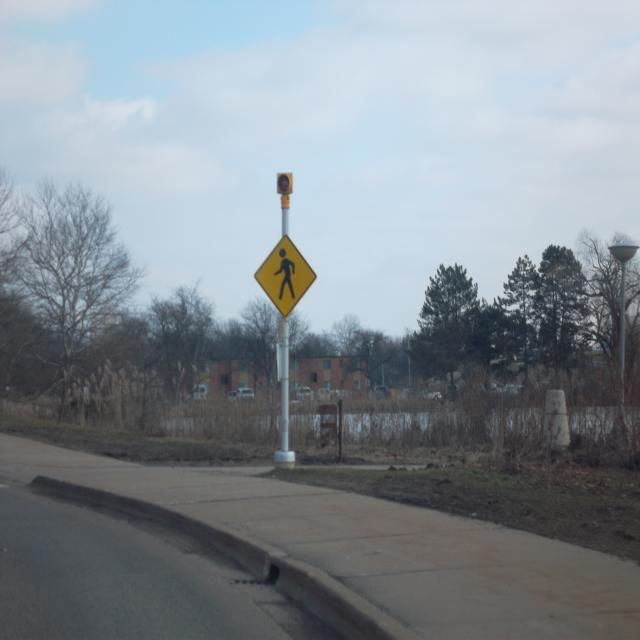warning: (252, 235, 317, 318)
